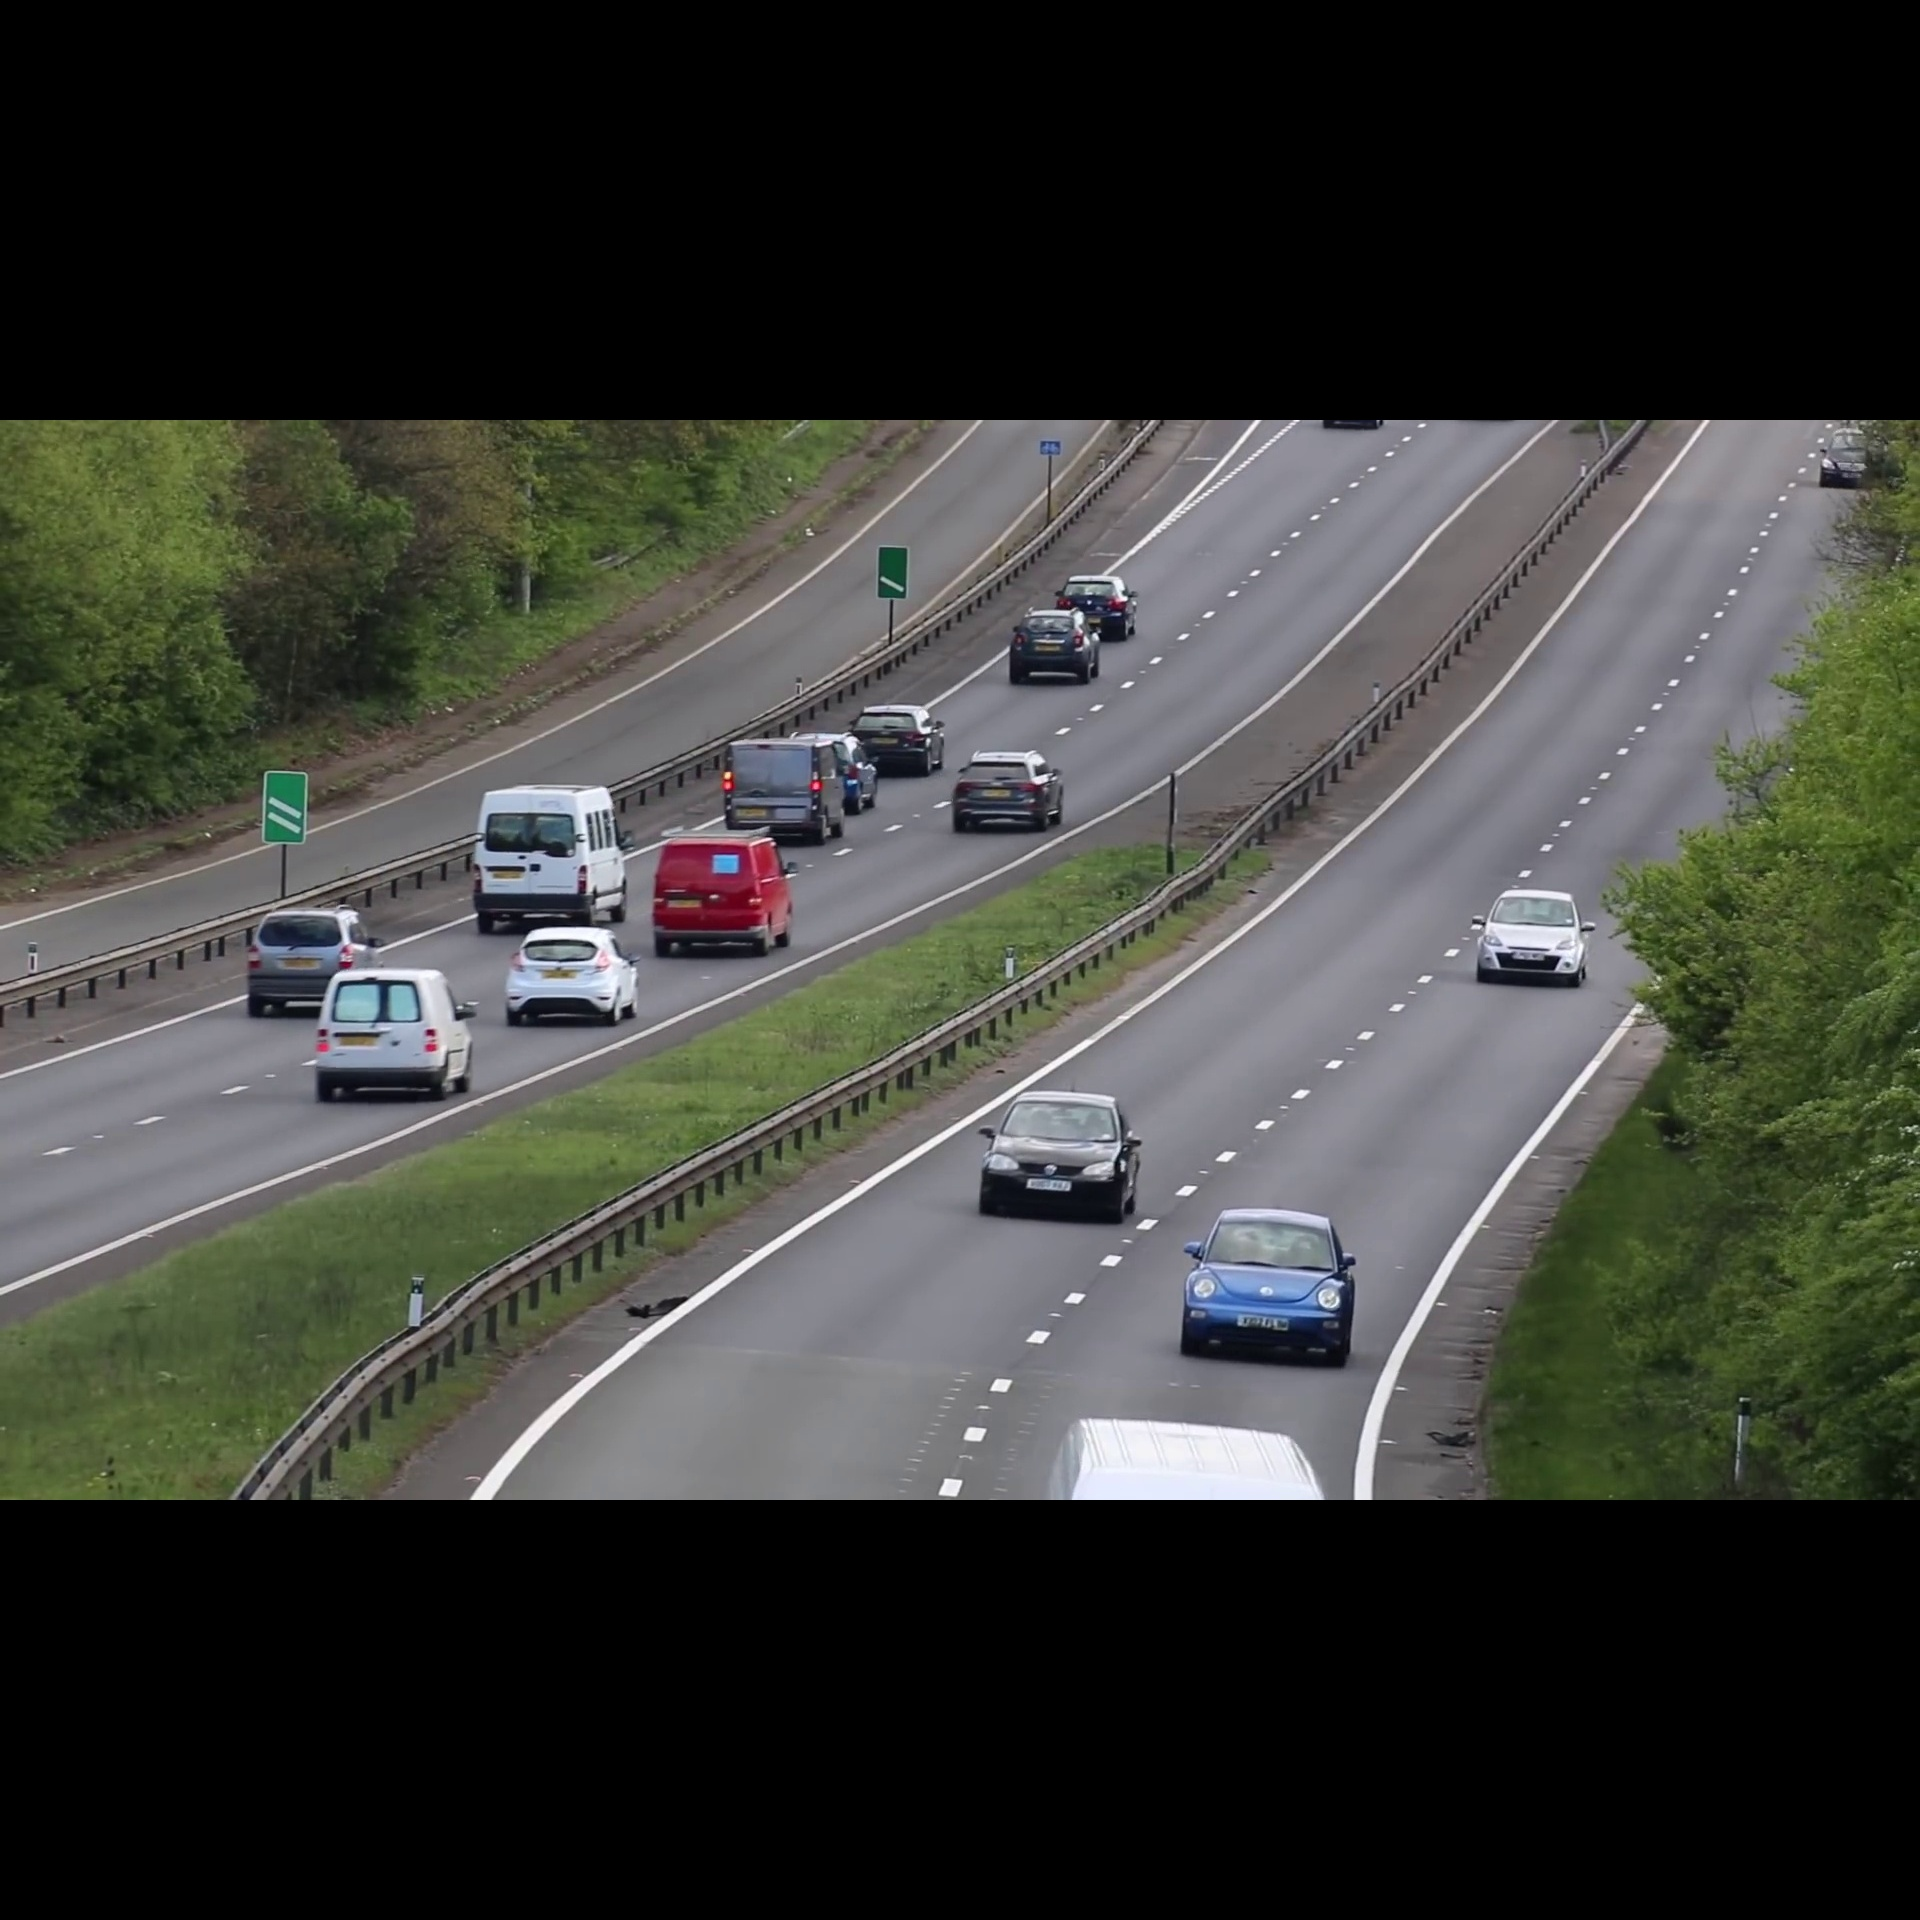vehicle: (1180, 1199, 1361, 1370), (972, 1081, 1146, 1231), (469, 782, 635, 934), (315, 964, 480, 1106), (651, 826, 798, 958), (503, 923, 642, 1030), (1468, 883, 1604, 992), (721, 737, 847, 846), (948, 744, 1073, 832), (243, 905, 385, 974), (1007, 608, 1099, 686), (853, 703, 944, 774), (1811, 422, 1892, 496), (1053, 575, 1139, 636)
